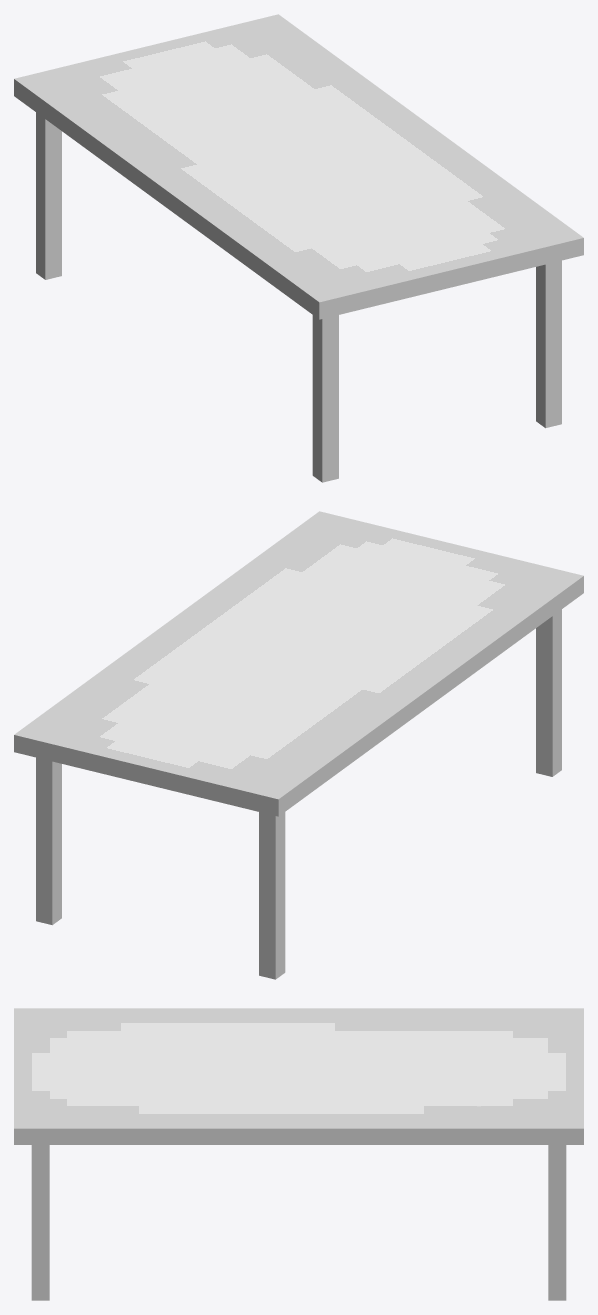
The model's file is CafetariaTafel.glb.
3 views of the same model, one above another, from view 1: azimuth 30°, elevation 25°; view 2: azimuth 150°, elevation 25°; view 3: azimuth 270°, elevation 25° (orthographic). The views are drawn at different scales.
Parts seen in each view (by area): view 1: group; view 2: group; view 3: group.
Part boxes in pixels (x1,y1,x2,y2): group: [14, 14, 583, 482]; group: [14, 511, 583, 979]; group: [14, 1008, 583, 1300].
Size of the model in its own units: 1 by 0.6875 by 2.
1 material, 1 textured.
